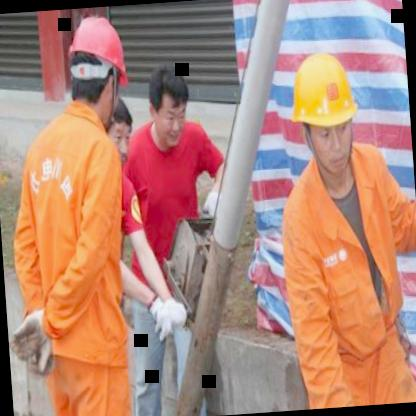head: (146, 61, 194, 151), (92, 99, 136, 170)
helmet: (282, 42, 365, 184), (61, 6, 132, 134)
